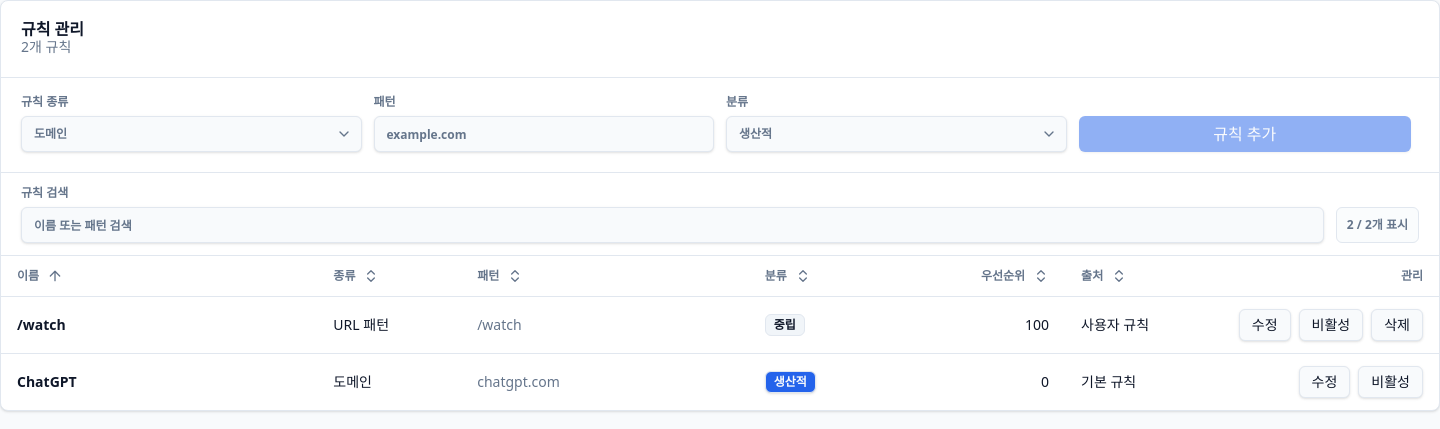
RulesSettings › replaces an existing rule with the returned rule instead of duplicating deterministic ids
Check: the text "ChatGPT" is shown, box [17,372,77,390]
Select "URL 패턴" in the dropdown labelled "규칙 종류" at (191, 134), box [21,116,362,152]
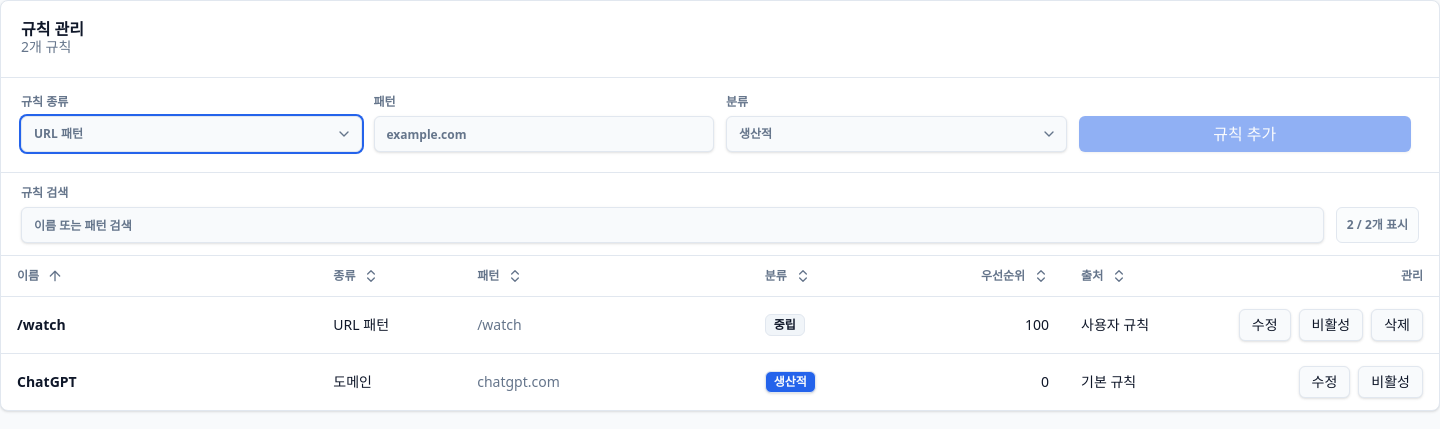
Select "비생산" in the dropdown labelled "분류" at (896, 134), box [726,116,1066,152]
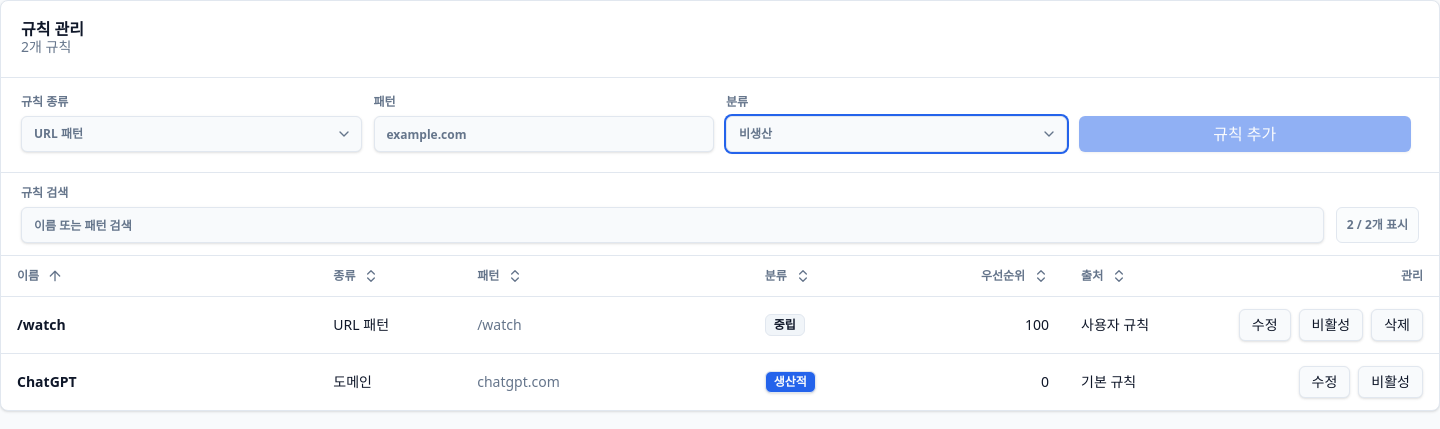
Type "/watch" into the field labelled "패턴".
click(544, 134); type("/watch")  # box [374,116,714,152]
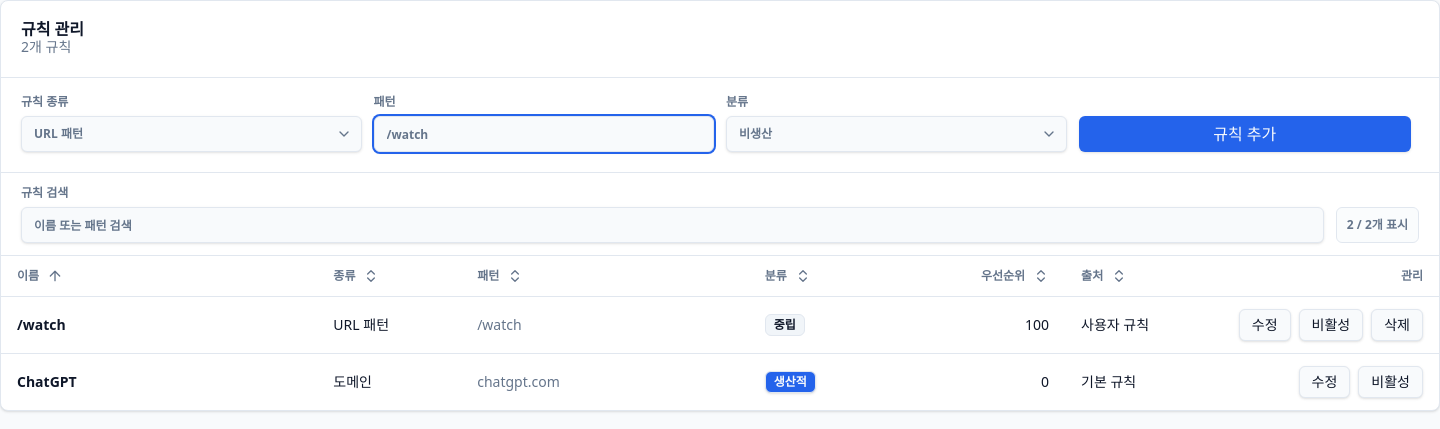
Click the button "규칙 추가".
click(1245, 134)  # box [1078,116,1411,152]
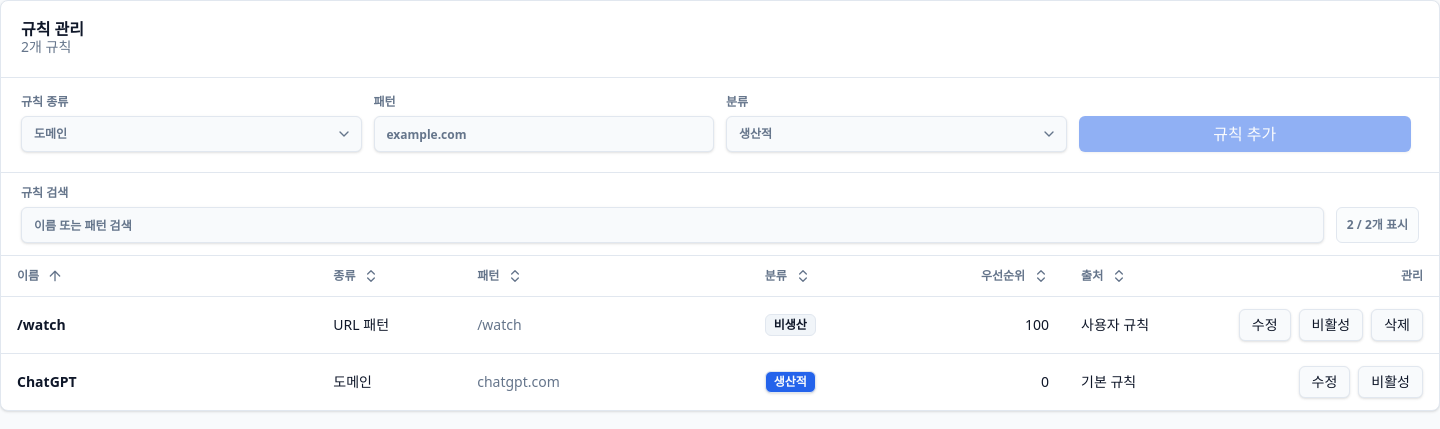
Check: the number of rows is 3, box [1,256,1439,296]; [1,296,1439,353]; [1,353,1439,410]
Check: the text "비생산" is shown, box [765,314,816,336]
